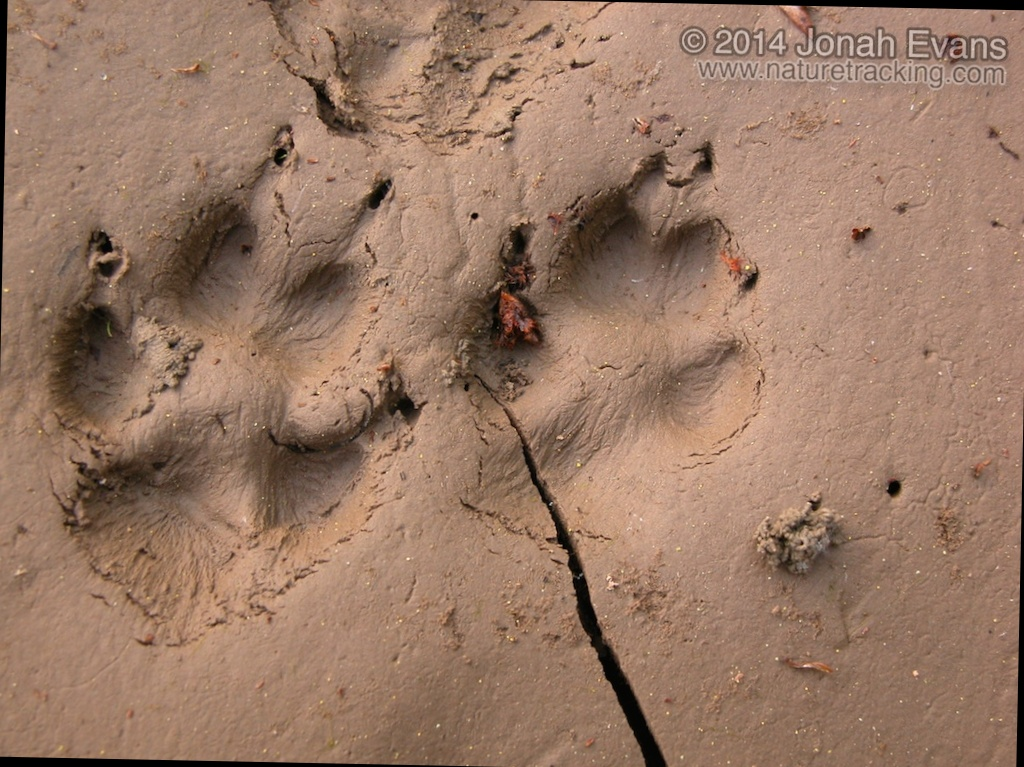fox: (9, 123, 448, 592)
